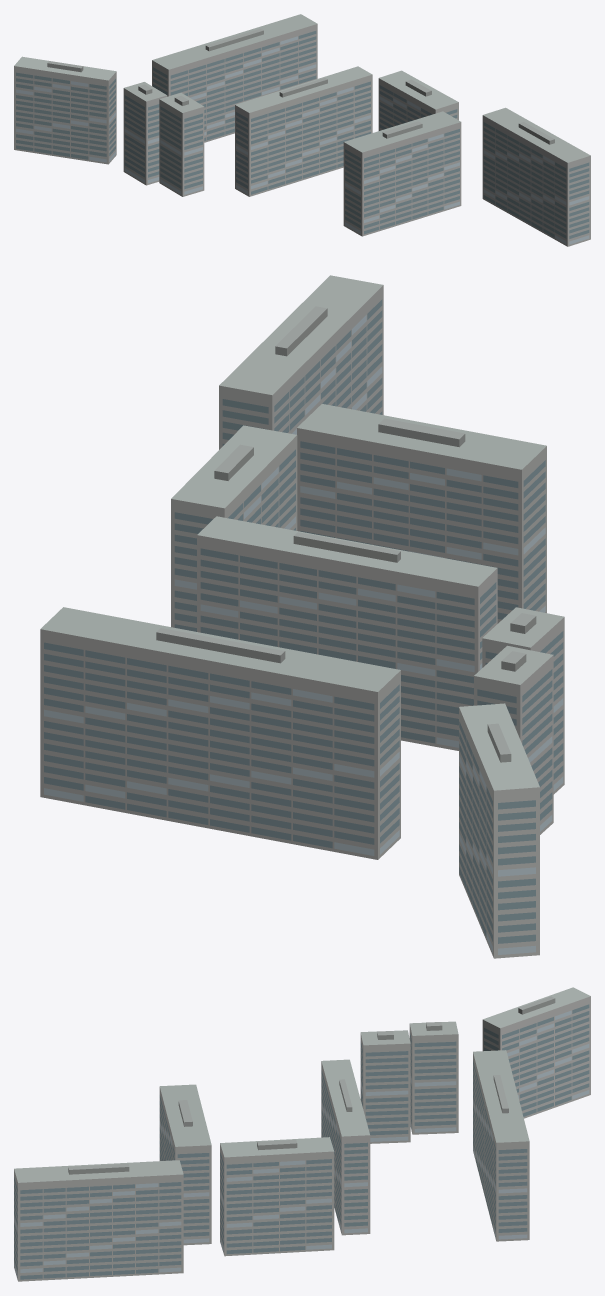
The model's file is apt-a13307101.glb.
3 views of the same model, one above another, from view 1: azimuth 30°, elevation 25°; view 2: azimuth 150°, elevation 25°; view 3: azimuth 270°, elevation 25° (orthographic). The views are drawn at different scales.
Visible parts, largest first — view 1: apt-a13307101; view 2: apt-a13307101; view 3: apt-a13307101.
Part boxes in pixels (box(x1,y1,x2,y2)): apt-a13307101: box(14, 14, 590, 246); apt-a13307101: box(40, 275, 564, 958); apt-a13307101: box(14, 987, 590, 1281).
Size of the model in its own units: 162 by 40 by 202.
